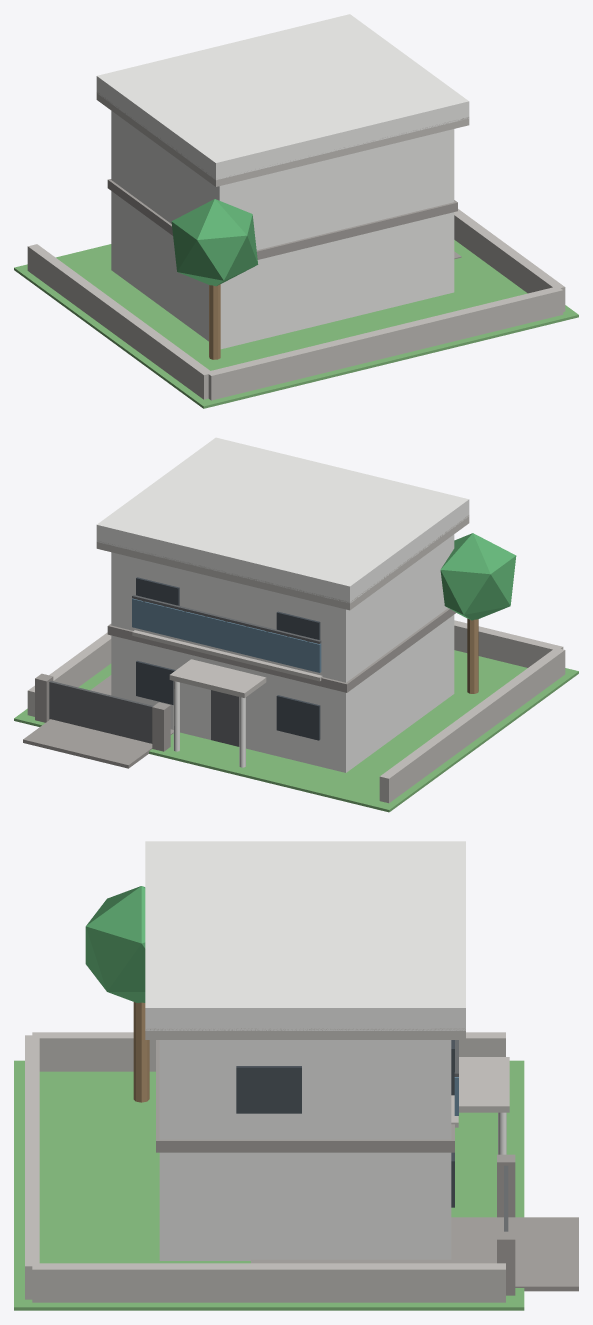
The model's file is ph_gra_duplex_a.glb.
3 views of the same model, one above another, from view 1: azimuth 30°, elevation 25°; view 2: azimuth 150°, elevation 25°; view 3: azimuth 270°, elevation 25° (orthographic). The views are drawn at different scales.
Parts seen in each view (by area): view 1: PH_ph_gra_duplex_a; view 2: PH_ph_gra_duplex_a; view 3: PH_ph_gra_duplex_a.
Part boxes in pixels (x1,y1,x2,y2): PH_ph_gra_duplex_a: (14, 14, 578, 408); PH_ph_gra_duplex_a: (14, 437, 578, 812); PH_ph_gra_duplex_a: (14, 841, 578, 1310).
Bounding box in the file's own units: 16 × 7.95 × 15.5.
